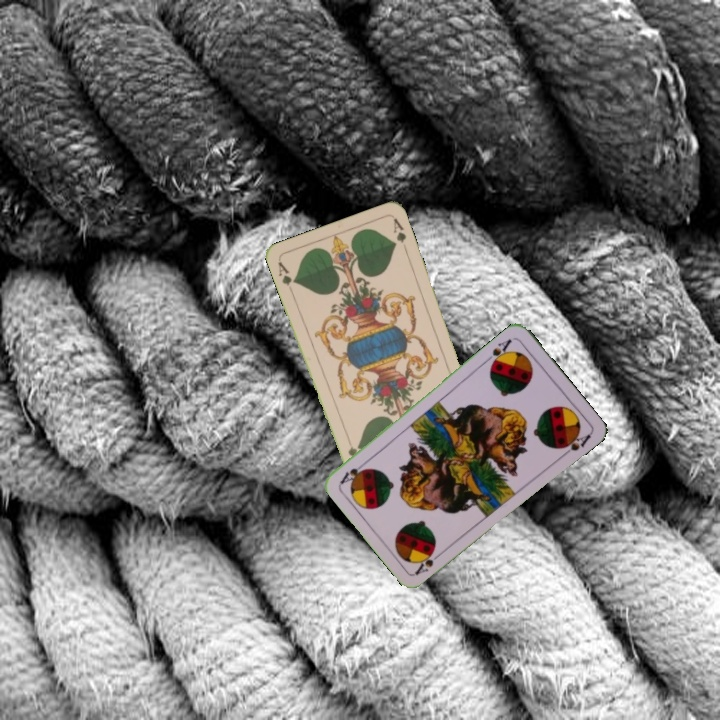GA: (274, 257, 298, 289)
SA: (482, 334, 514, 369), (411, 546, 446, 577)
